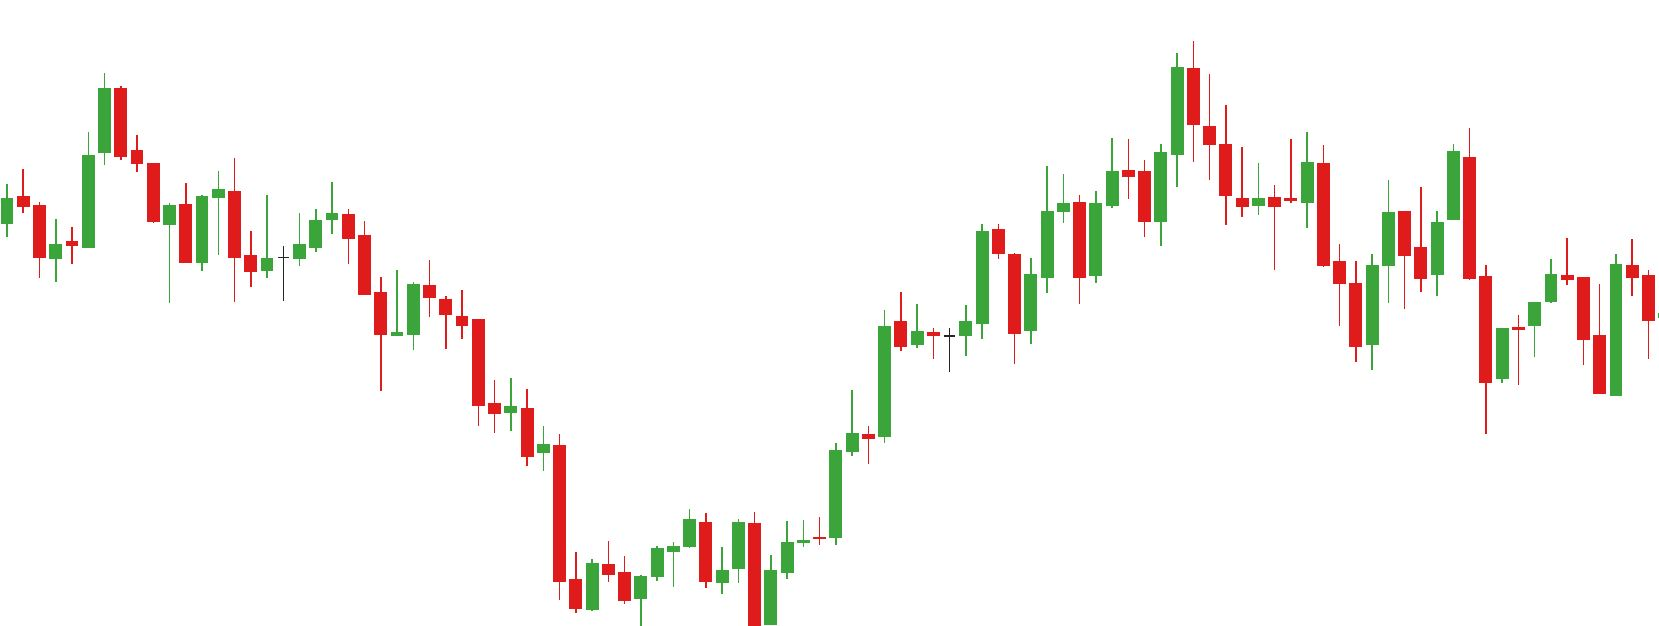buy: (632, 537, 780, 626)
sell: (1283, 129, 1478, 265), (15, 72, 143, 219), (1101, 43, 1219, 189), (260, 182, 354, 273)
